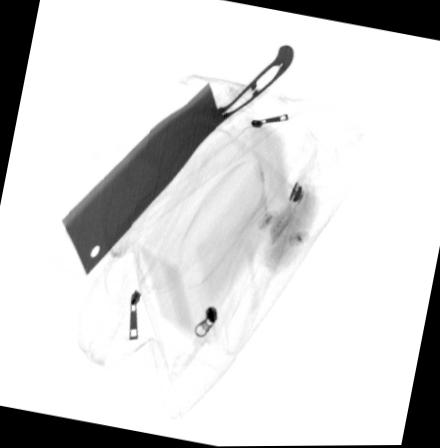Knife: (59, 43, 295, 276)
